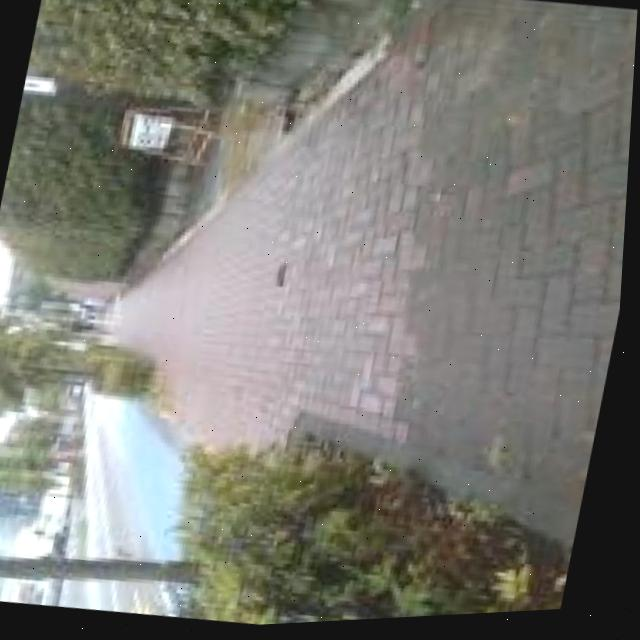Obstacle: (0, 444, 580, 628), (123, 109, 218, 166), (77, 344, 160, 405)
Road: (89, 398, 188, 562), (91, 583, 182, 619)
Sidewalk: (121, 0, 638, 549)
